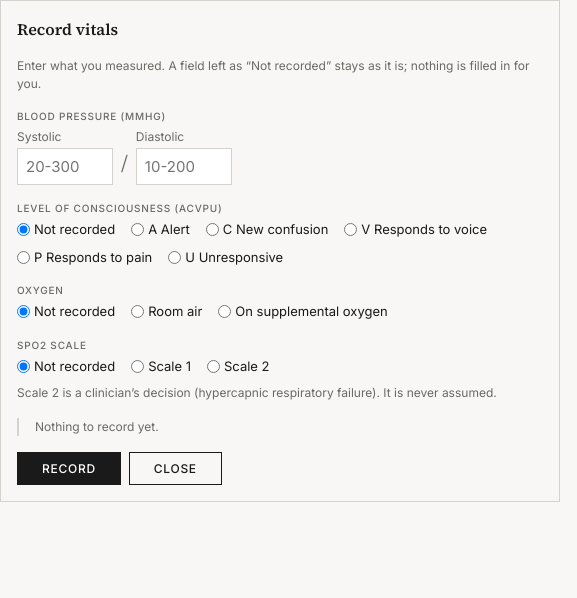
what the server refuses is shown as the server said it › shows a 422's reason by field and never echoes the rejected input
In the field labelled "Systolic": (65, 166) [17, 148, 113, 185], type "130"
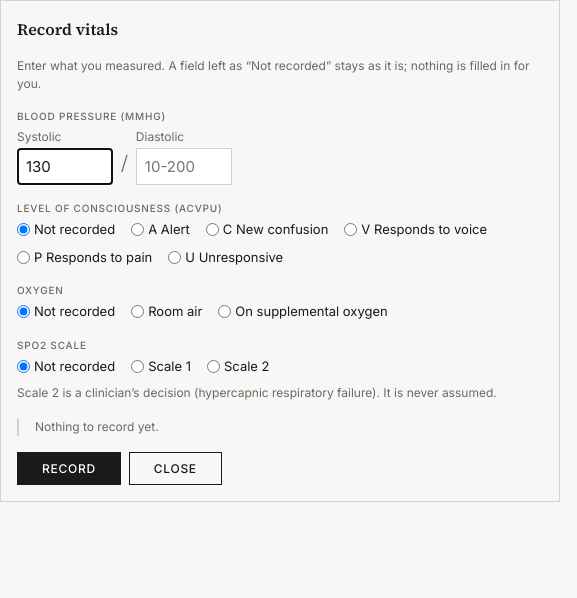
In the field labelled "Diastolic": (184, 166) [136, 148, 232, 185], type "84"
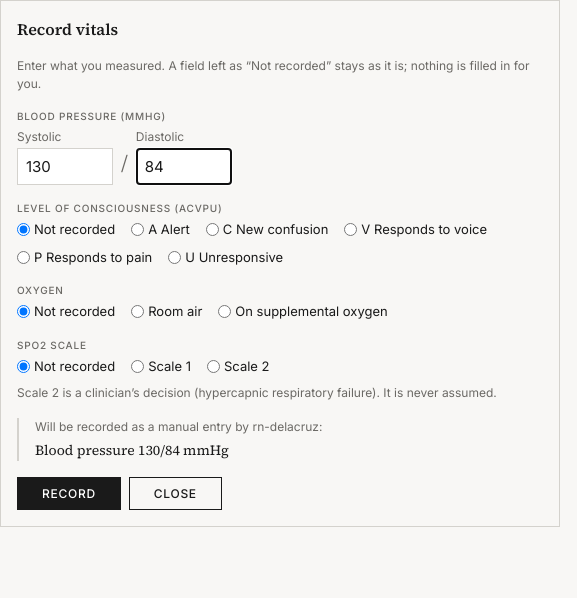
Click the button "Record": (69, 494) [17, 477, 121, 510]
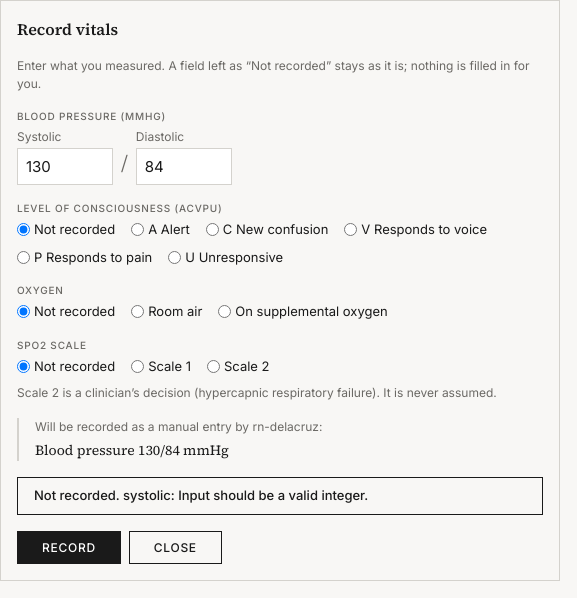
Expected: the button "Record" is enabled, [17, 530, 121, 564]
Expected: the message reads "Not recorded. systolic: Input should be a valid integer.", [34, 487, 368, 503]
